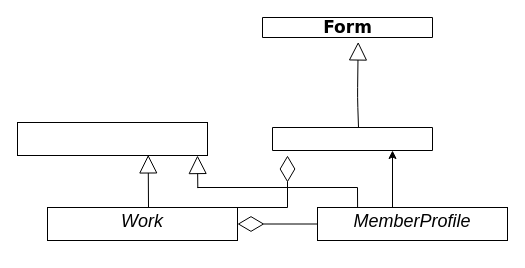
Image size: 525x268. Some labels were removed from this diagram. The shapes that lost their labels are listed below. From the top down, each one's centre as x and y in pixels, then its label:
(x=112, y=139): Object
(x=352, y=138): FormGood
